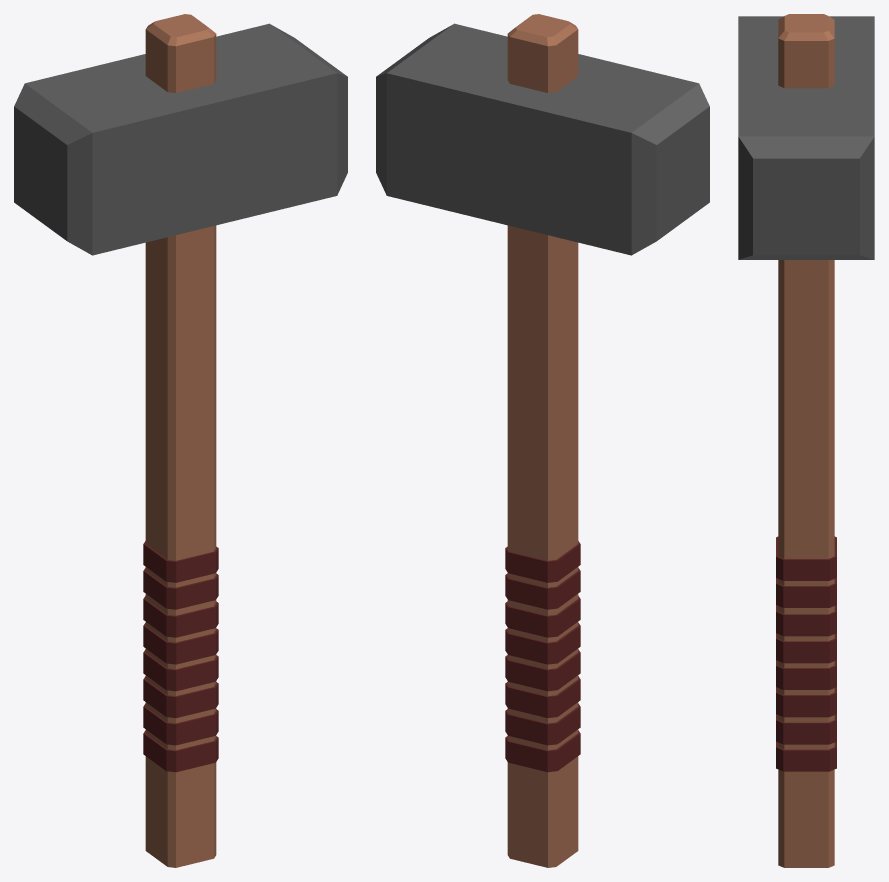
The model's file is Hammer.fbx.
3 renders of one model, left to right at view 1: azimuth 30°, elevation 25°; view 2: azimuth 150°, elevation 25°; view 3: azimuth 270°, elevation 25°, orthographic.
Visible parts, largest first — view 1: Hammer; view 2: Hammer; view 3: Hammer.
Part boxes in pixels (x1,y1,x2,y2): Hammer: [14, 14, 347, 867]; Hammer: [376, 14, 709, 867]; Hammer: [738, 14, 874, 867].
Bounding box in the file's own units: 58.78 × 166 × 24.55.
